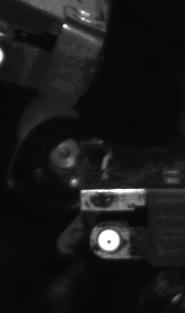fiber: (94, 227, 125, 256)
